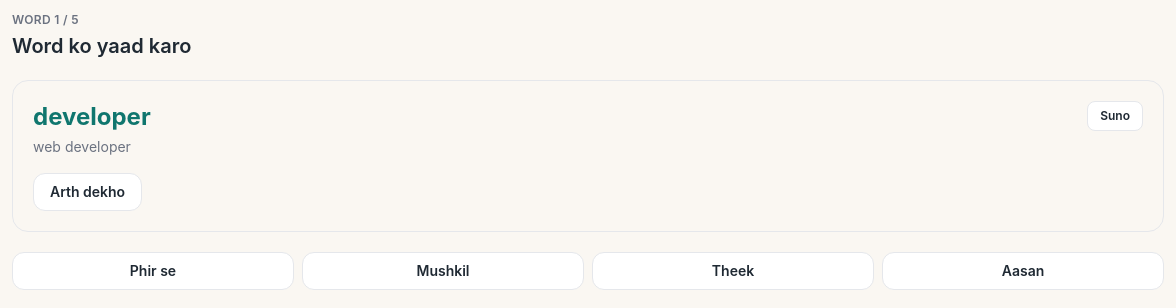
Test: rates a word and schedules it
Check: the text "developer" is shown, box [33, 101, 151, 133]
Click the button "Theek".
click(733, 271)  # box [592, 252, 874, 290]
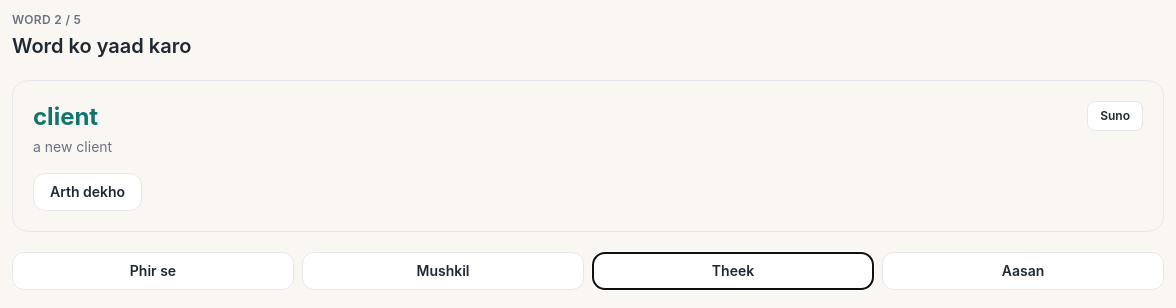
Check: the text "client" is shown, box [33, 102, 98, 131]
